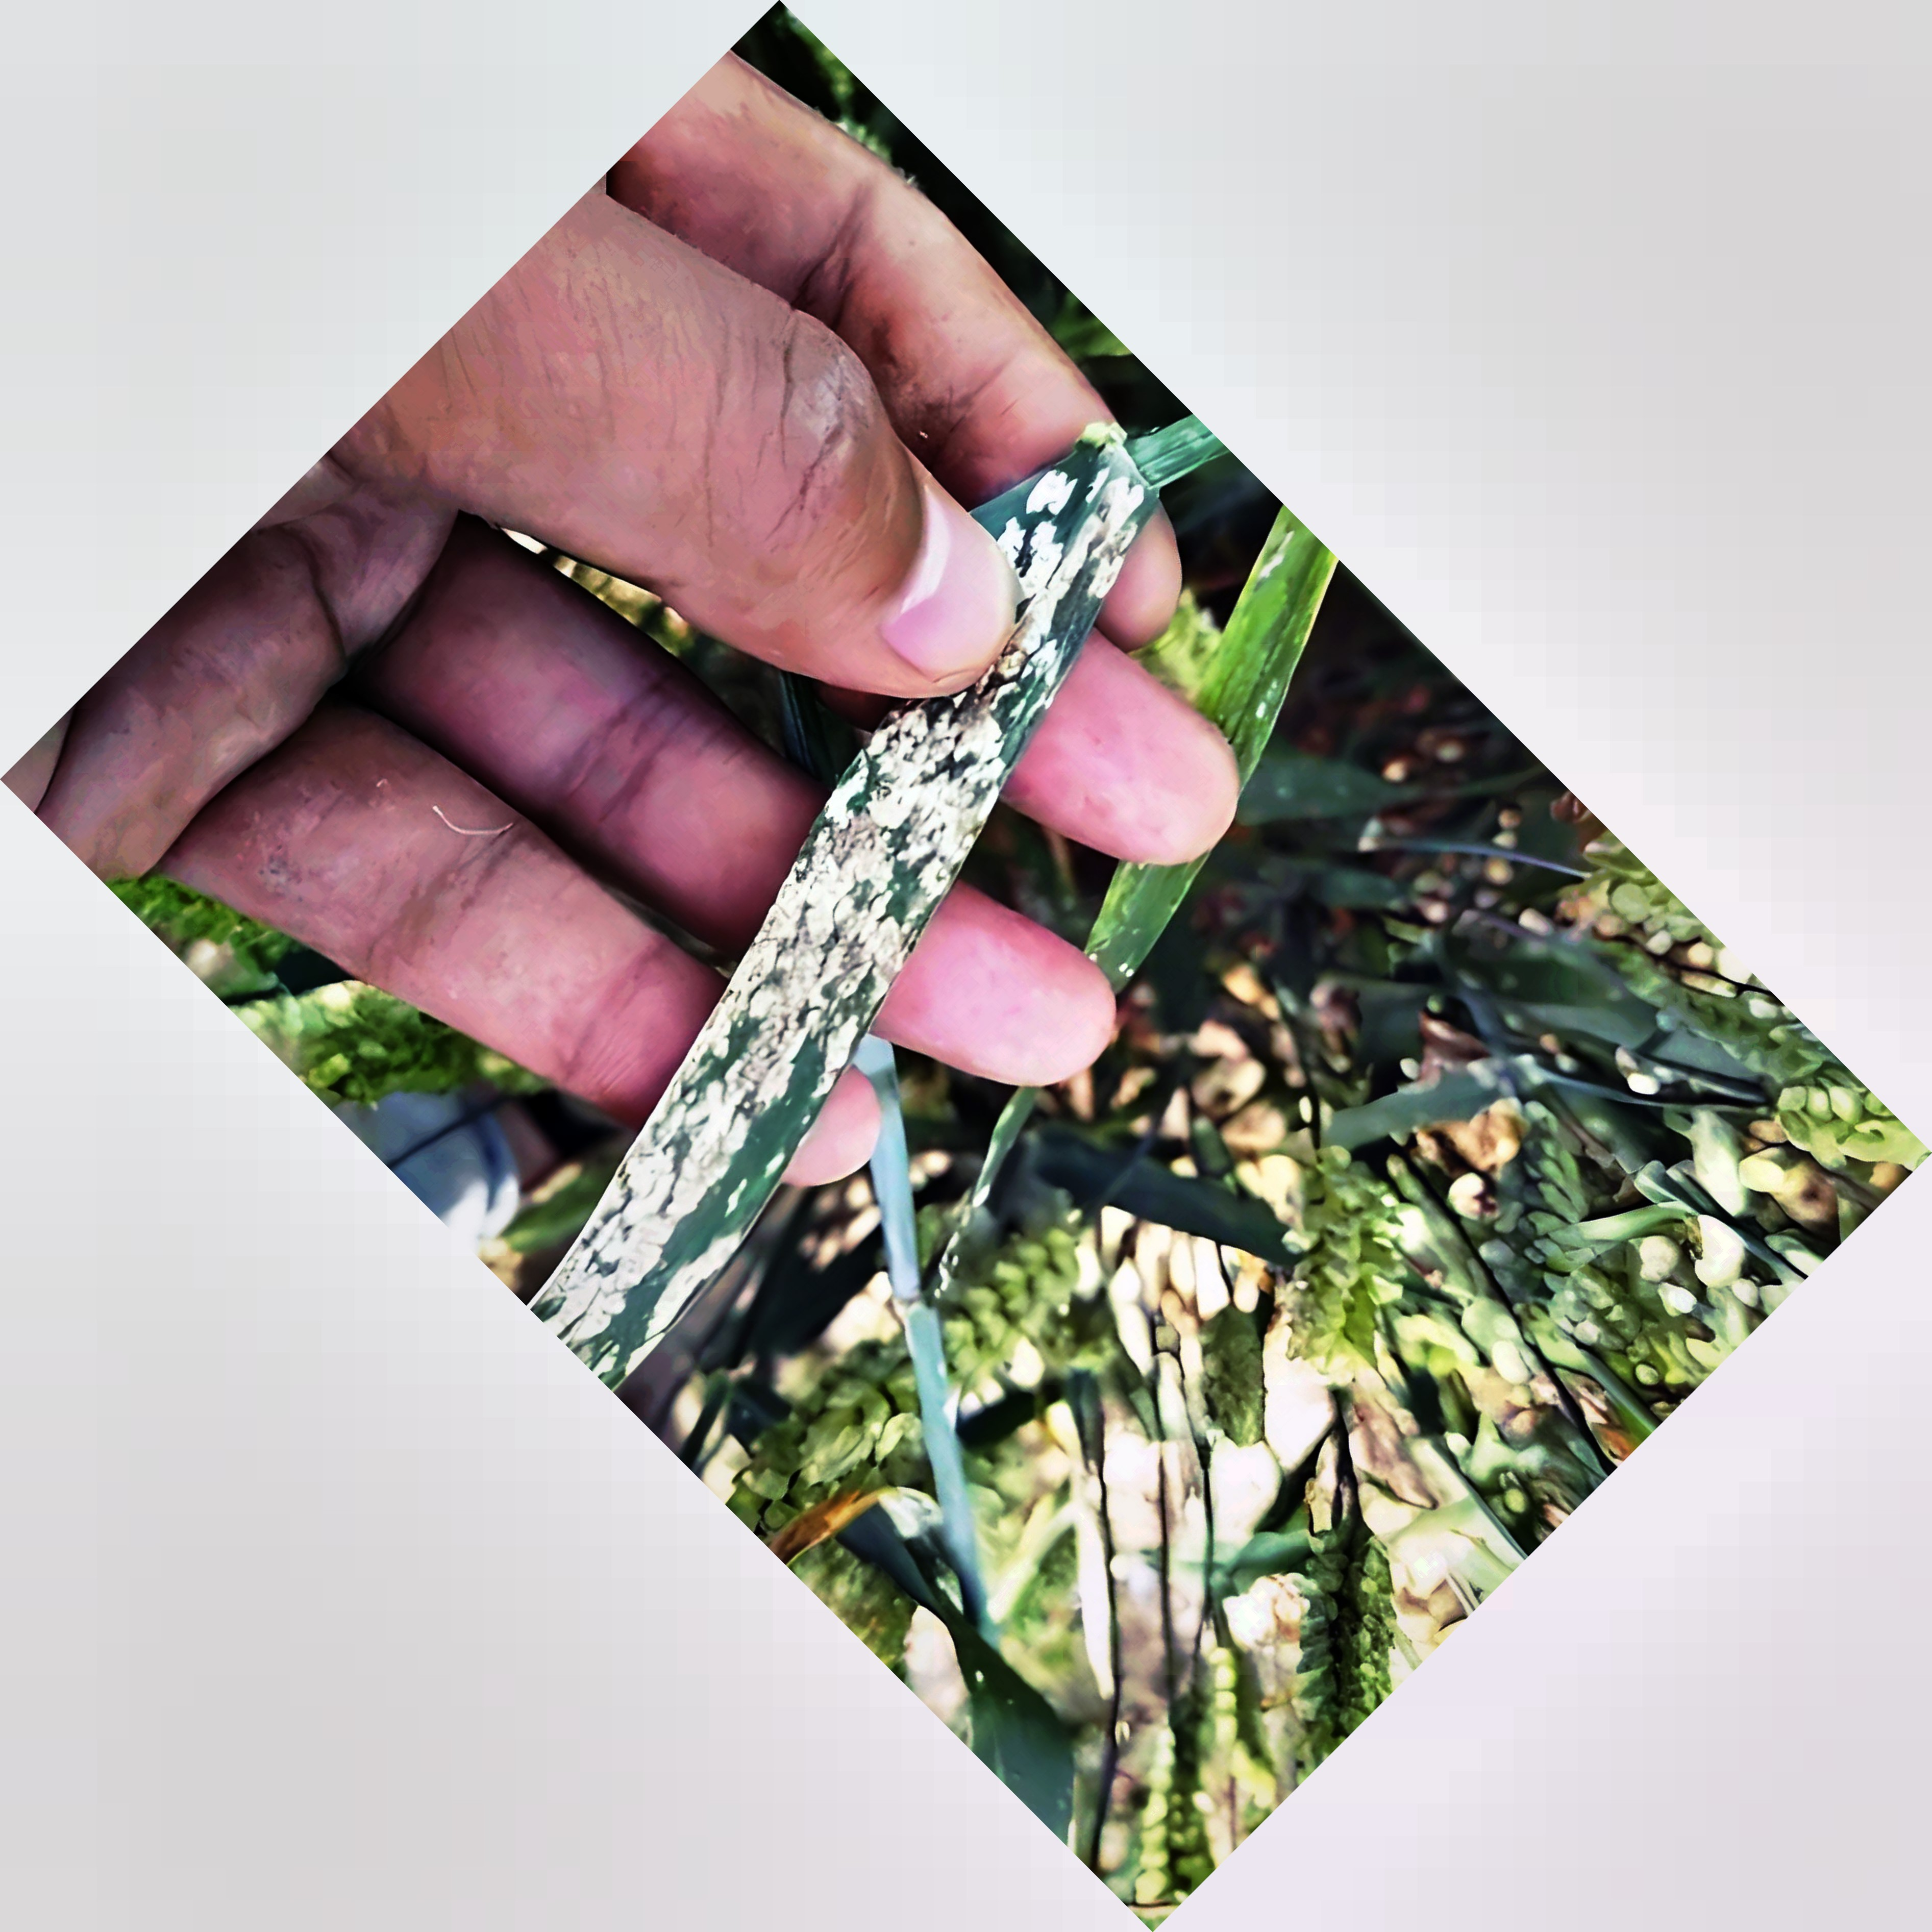Powdery Mildew: (548, 679, 1028, 1361)
